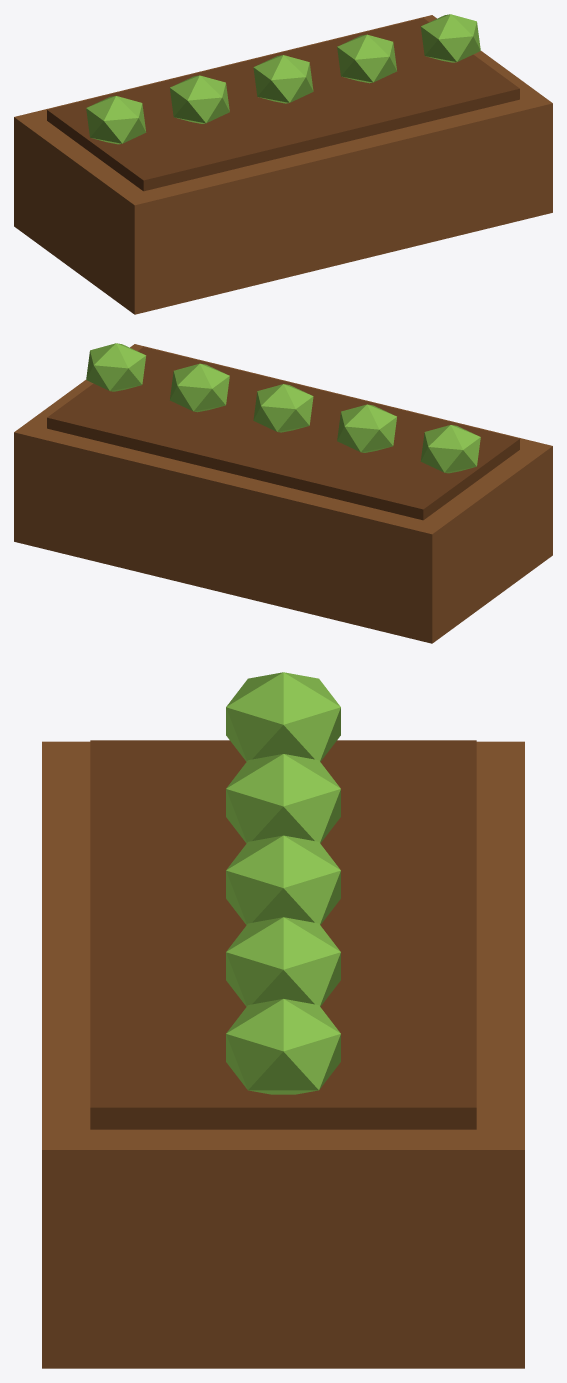
File: garden2_raised_bed.glb
3 renders of one model, top to bottom at view 1: azimuth 30°, elevation 25°; view 2: azimuth 150°, elevation 25°; view 3: azimuth 270°, elevation 25°, orthographic. The views are drawn at different scales.
Visible parts, largest first — view 1: raised_bed; view 2: raised_bed; view 3: raised_bed.
Part boxes in pixels (x1,y1,x2,y2): raised_bed: (14,14,552,314); raised_bed: (14,343,552,643); raised_bed: (42,672,524,1368).
Bounding box in the file's own units: 1 × 0.376 × 0.5.
